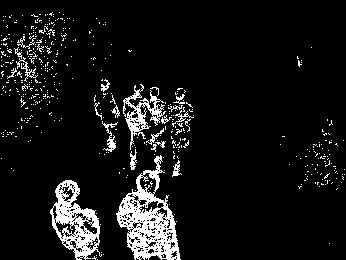person: (113, 169, 182, 260), (50, 178, 104, 260), (165, 87, 195, 177), (141, 84, 169, 173), (122, 82, 149, 172), (94, 78, 120, 155)
